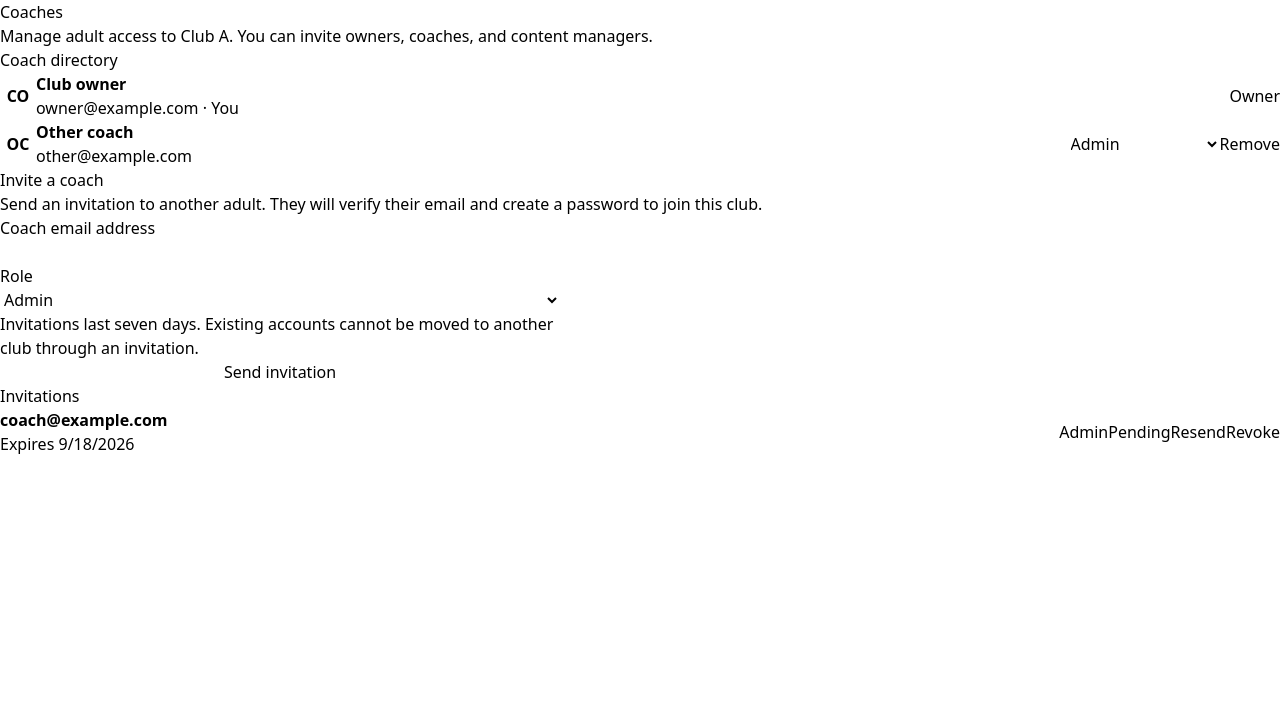
Test: CoachesPage › shows a revoke failure inside the confirmation without hiding it
Click the button with aria-label "Revoke invitation for coach@example.com": click(1253, 432) [1226, 420, 1279, 444]
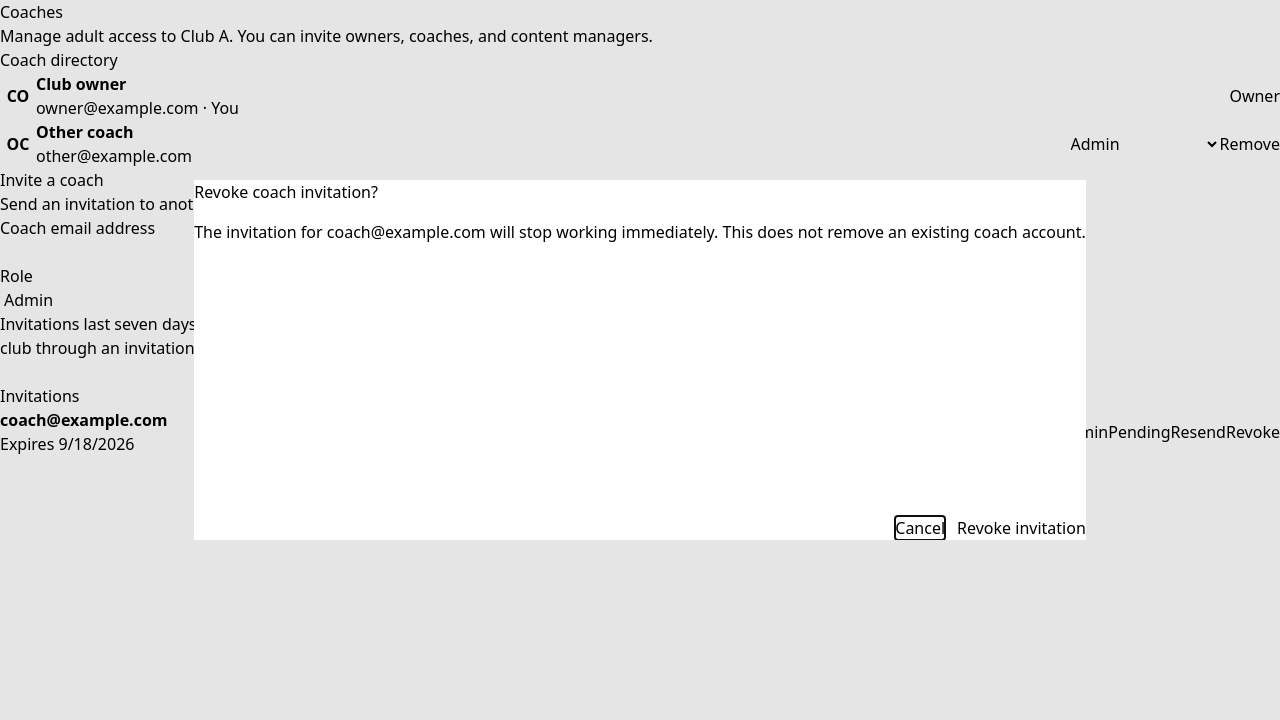
Click the button "Revoke invitation": click(1021, 528) [957, 516, 1086, 540]
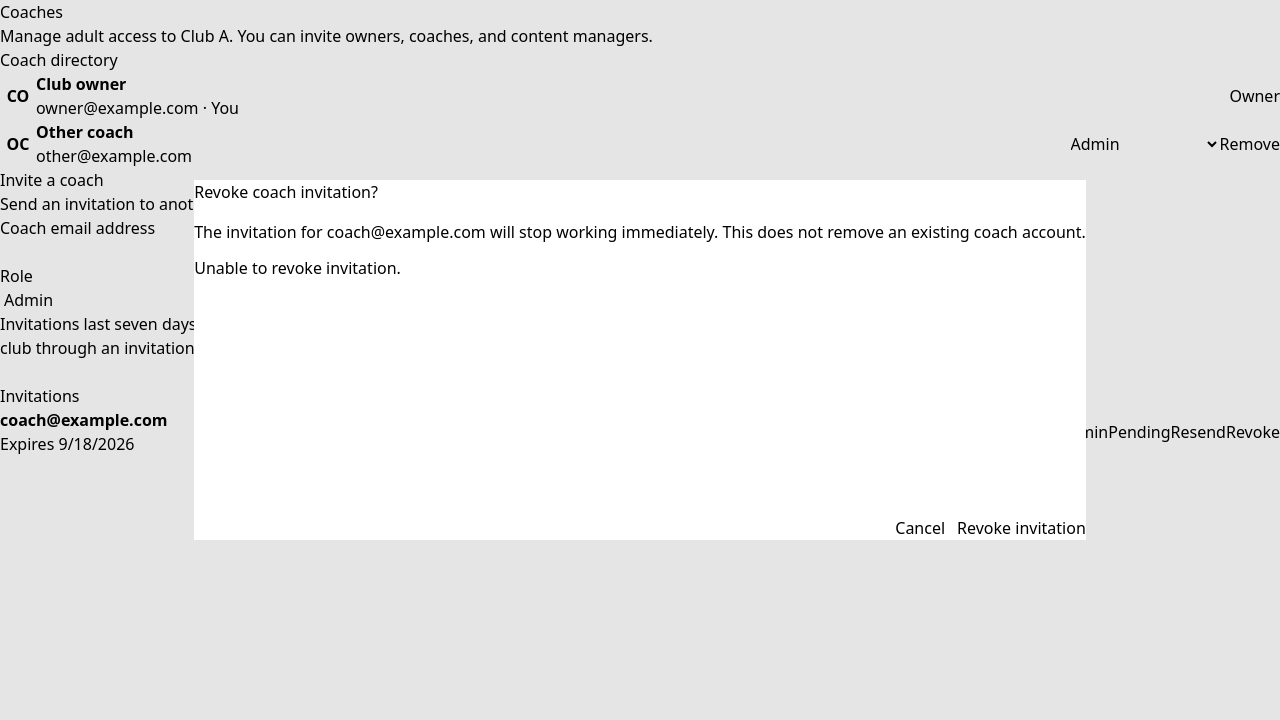
Expected: the message shows "Unable to revoke invitation", [194, 257, 401, 279]
